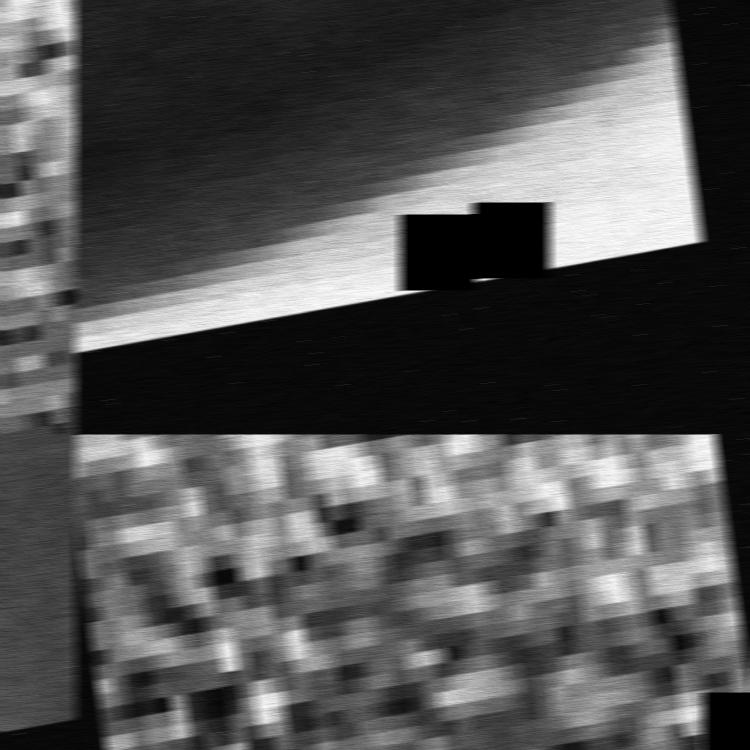AirbagV2: (73, 0, 728, 348), (73, 434, 750, 750), (0, 0, 77, 434), (0, 434, 77, 750)
